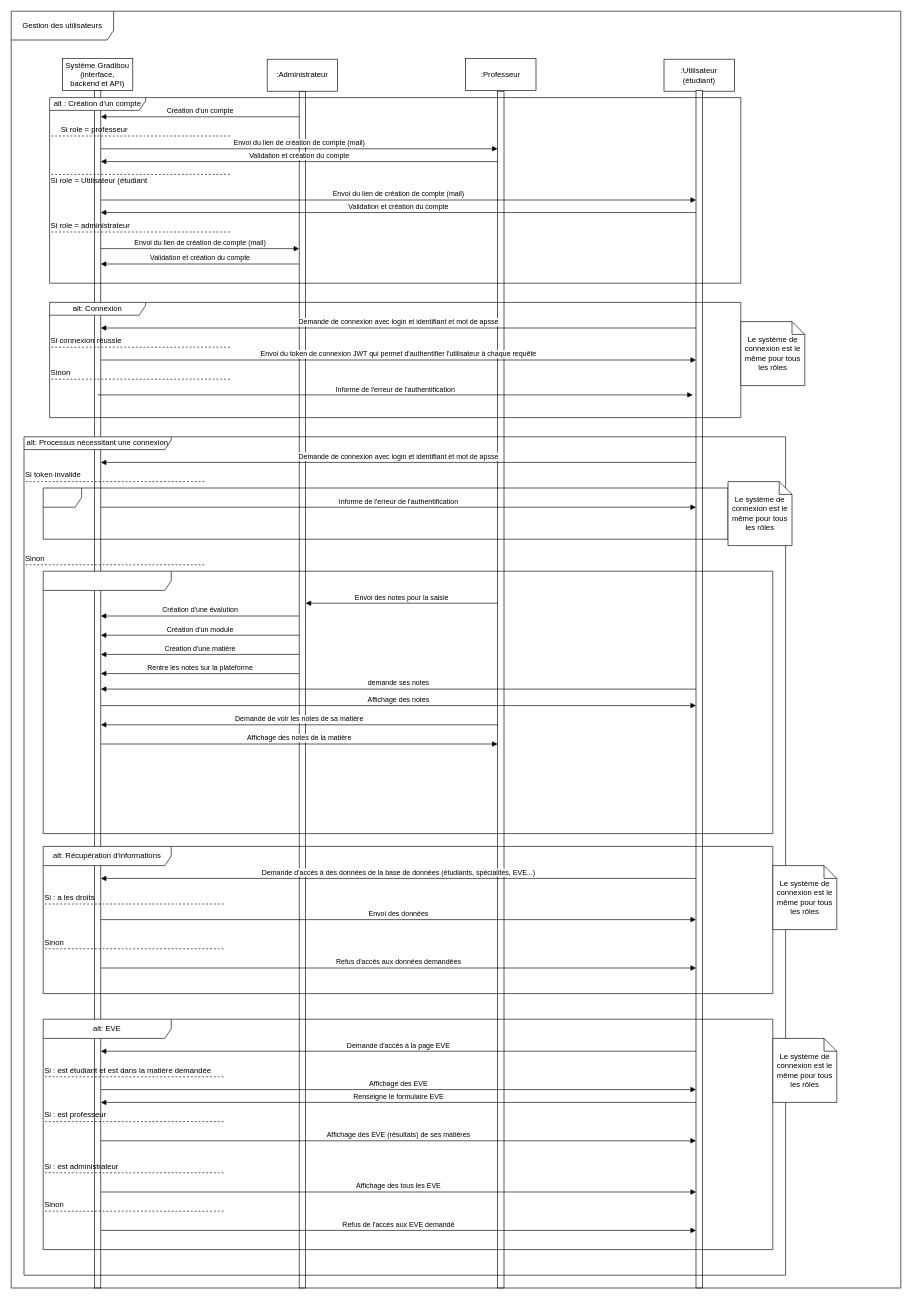
This 912x1299 diagram has some shape labels left out. Each missing label, with the centre of its shape:
break: the point at 385,513
Saisie et consultation des notes: the point at 408,702
